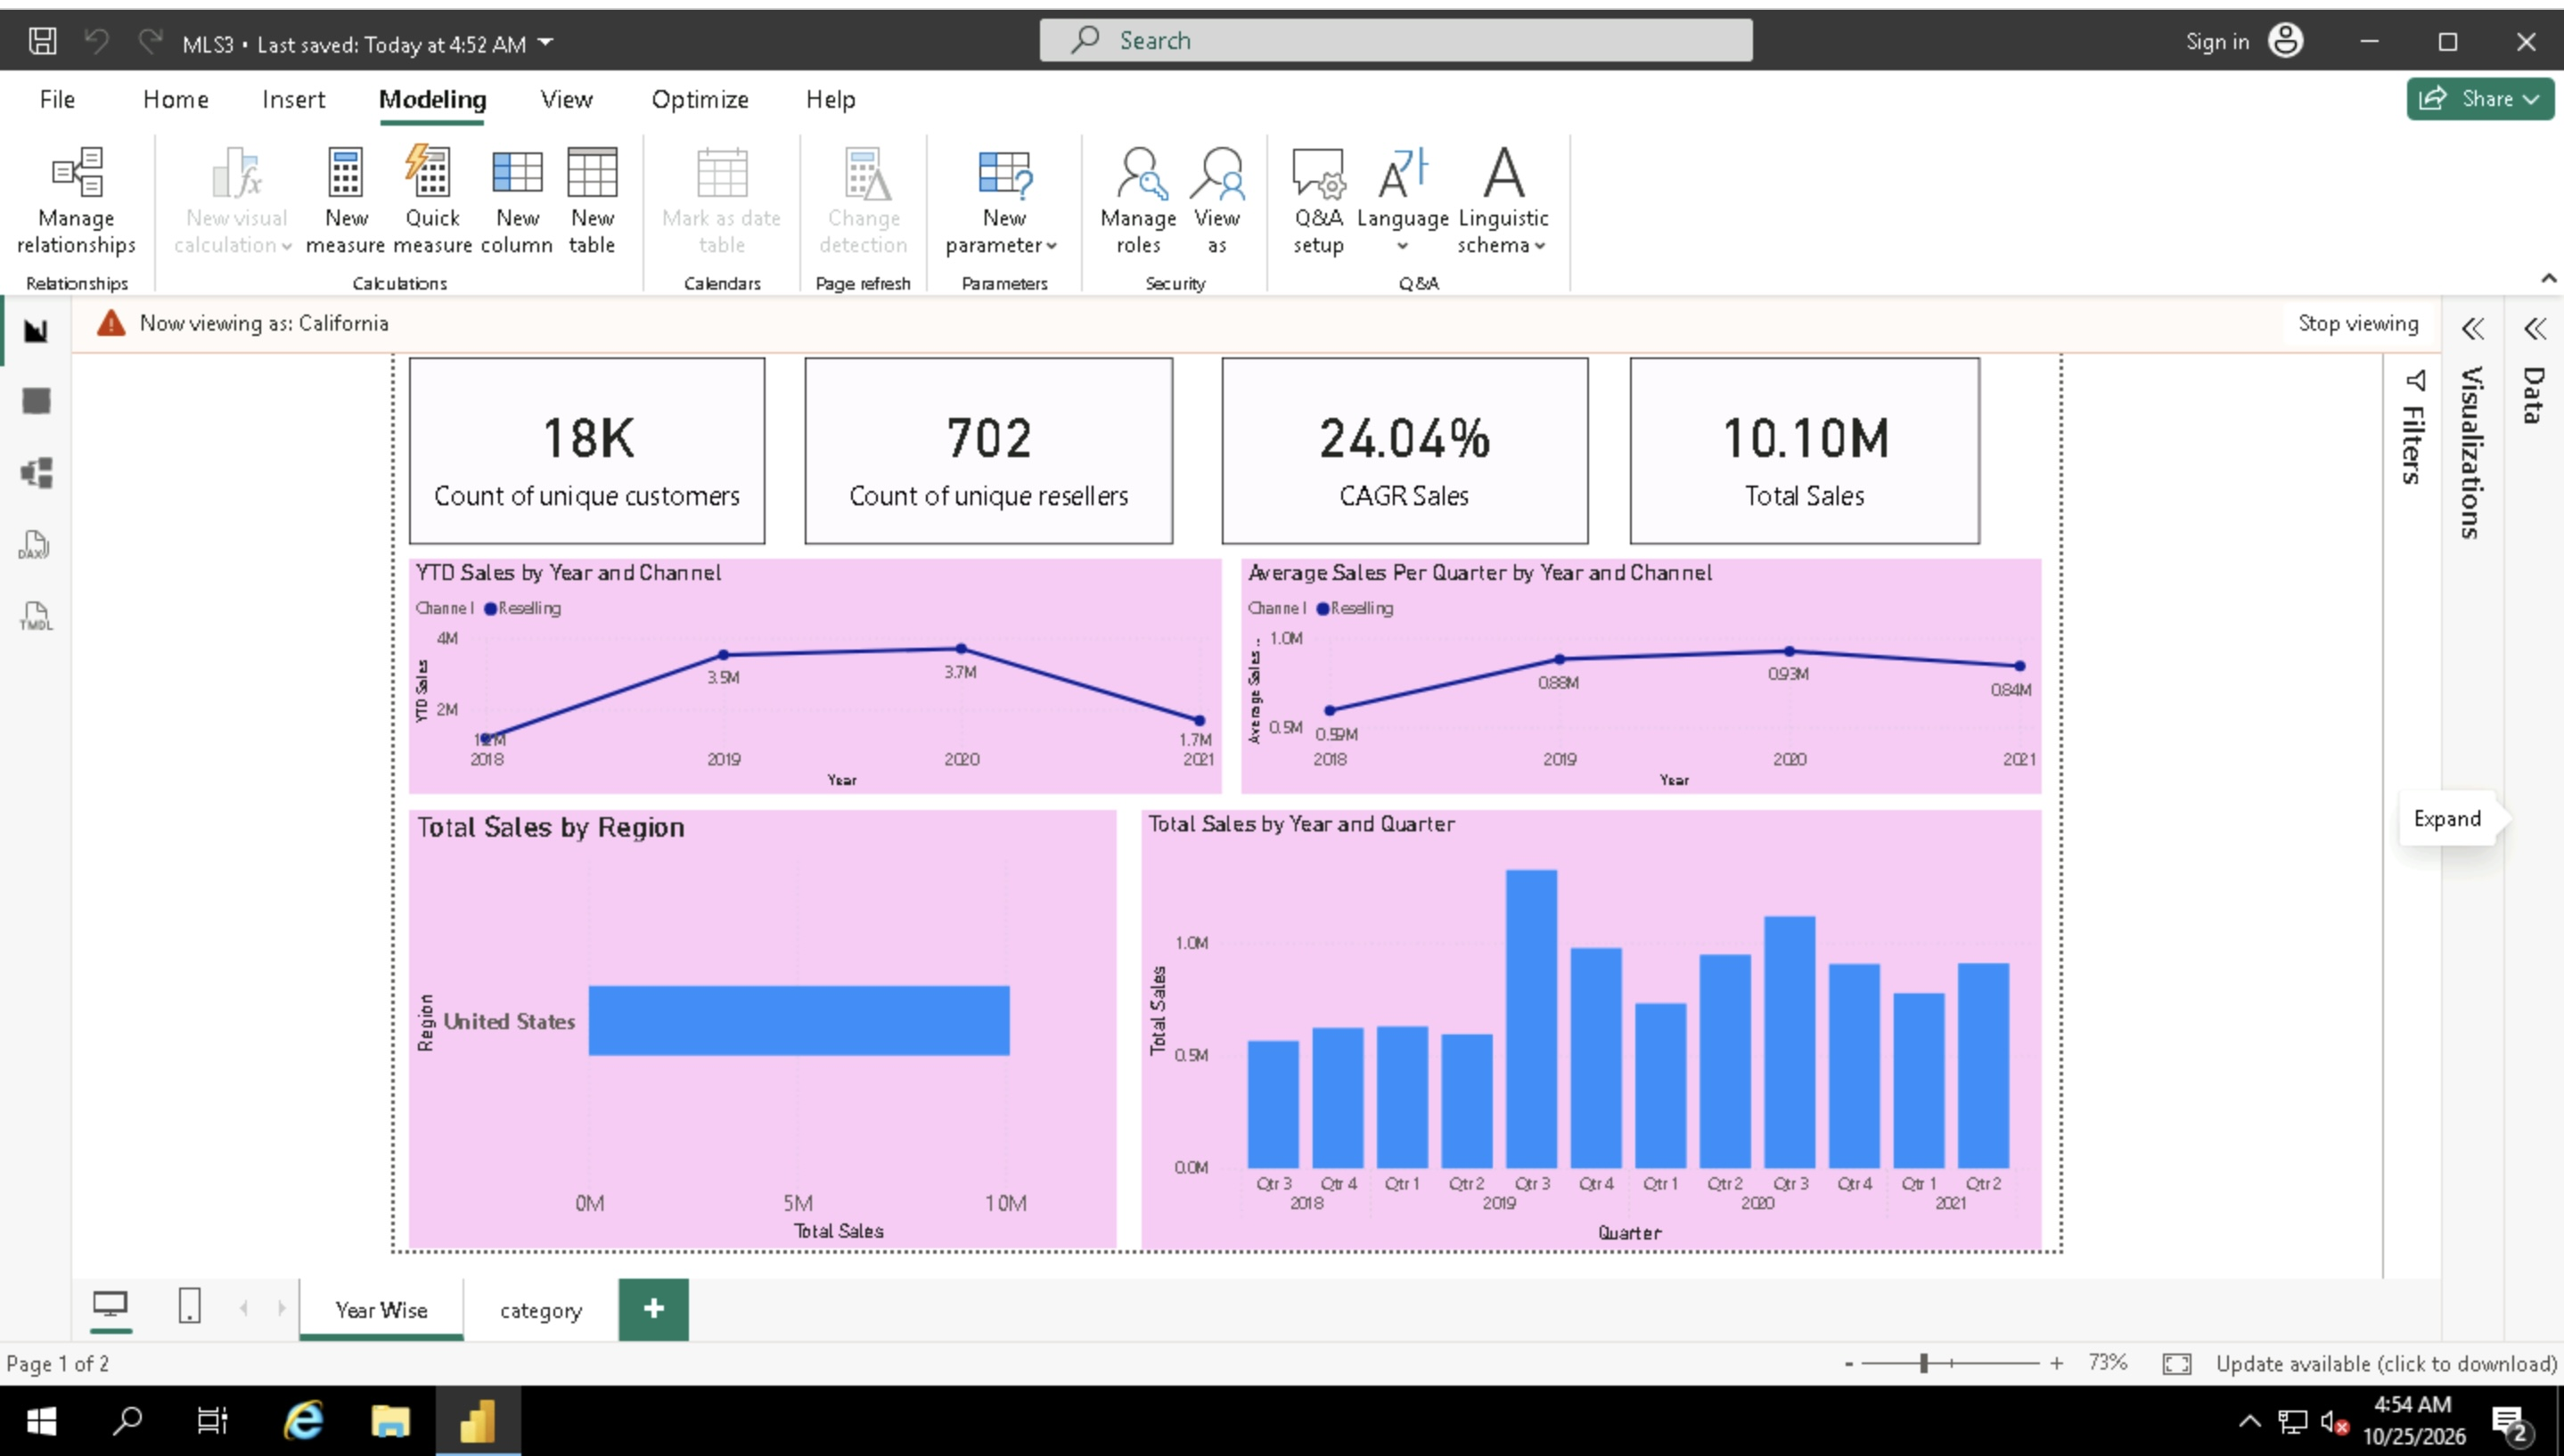

What the dashboard file says about the page in this screenshot:
{"tool":"powerbi","page":{"name":"Year Wise","canvas":[1280,720],"ordinal":0},"visuals":[{"type":"card","fields":{"Values":["Measure Table.Total Sales"]},"box":[949.3,33.7,269.5,143.9],"z":0},{"type":"card","fields":{"Values":["Measure Table.Count of unique resellers"]},"box":[315.4,33.7,283.3,143.9],"z":1000},{"type":"card","fields":{"Values":["Measure Table.CAGR Sales"]},"box":[635.4,33.7,281.7,143.9],"z":2000},{"type":"card","fields":{"Values":["Measure Table.Count of unique customers"]},"box":[10.7,33.7,274.1,143.9],"z":3000},{"type":"barChart","fields":{"Category":["Sales.Region"],"Y":["Measure Table.Total Sales"]},"box":[10.7,382.8,543.5,336.8],"z":4000},{"type":"lineChart","fields":{"Y":["Measure Table.YTD Sales"],"Category":["Date.DateNode.Variation.Date Hierarchy.Year"],"Series":["OrderType.Channel"]},"box":[10.6,189.3,624.7,181.3],"z":5000},{"type":"clusteredColumnChart","fields":{"Y":["Measure Table.Total Sales"],"Category":["Date.DateNode.Variation.Date Hierarchy.Year","Date.DateNode.Variation.Date Hierarchy.Quarter"]},"box":[574.4,382.5,692.2,337.5],"z":6000},{"type":"lineChart","fields":{"Y":["Measure Table.Average Sales Per Quarter"],"Category":["Date.DateNode.Variation.Date Hierarchy.Year"],"Series":["OrderType.Channel"]},"box":[651.2,189.3,615.4,181.3],"z":7000}]}

Visuals, with their boxes on the page's 1280x720 design canvas (x1, y1, x2, y2). These are canvas units, not pixel positions in the 2564x1456 screenshot, which may show the page scaled, cropped or inside an application window:
card - Measure Table.Total Sales: <bbox>949, 34, 1219, 178</bbox>
card - Measure Table.Count of unique resellers: <bbox>315, 34, 599, 178</bbox>
card - Measure Table.CAGR Sales: <bbox>635, 34, 917, 178</bbox>
card - Measure Table.Count of unique customers: <bbox>11, 34, 285, 178</bbox>
barChart - Sales.Region x Measure Table.Total Sales: <bbox>11, 383, 554, 720</bbox>
lineChart - Measure Table.YTD Sales x Date.DateNode.Variation.Date Hierarchy.Year: <bbox>11, 189, 635, 371</bbox>
clusteredColumnChart - Measure Table.Total Sales x Date.DateNode.Variation.Date Hierarchy.Year: <bbox>574, 382, 1267, 720</bbox>
lineChart - Measure Table.Average Sales Per Quarter x Date.DateNode.Variation.Date Hierarchy.Year: <bbox>651, 189, 1267, 371</bbox>
